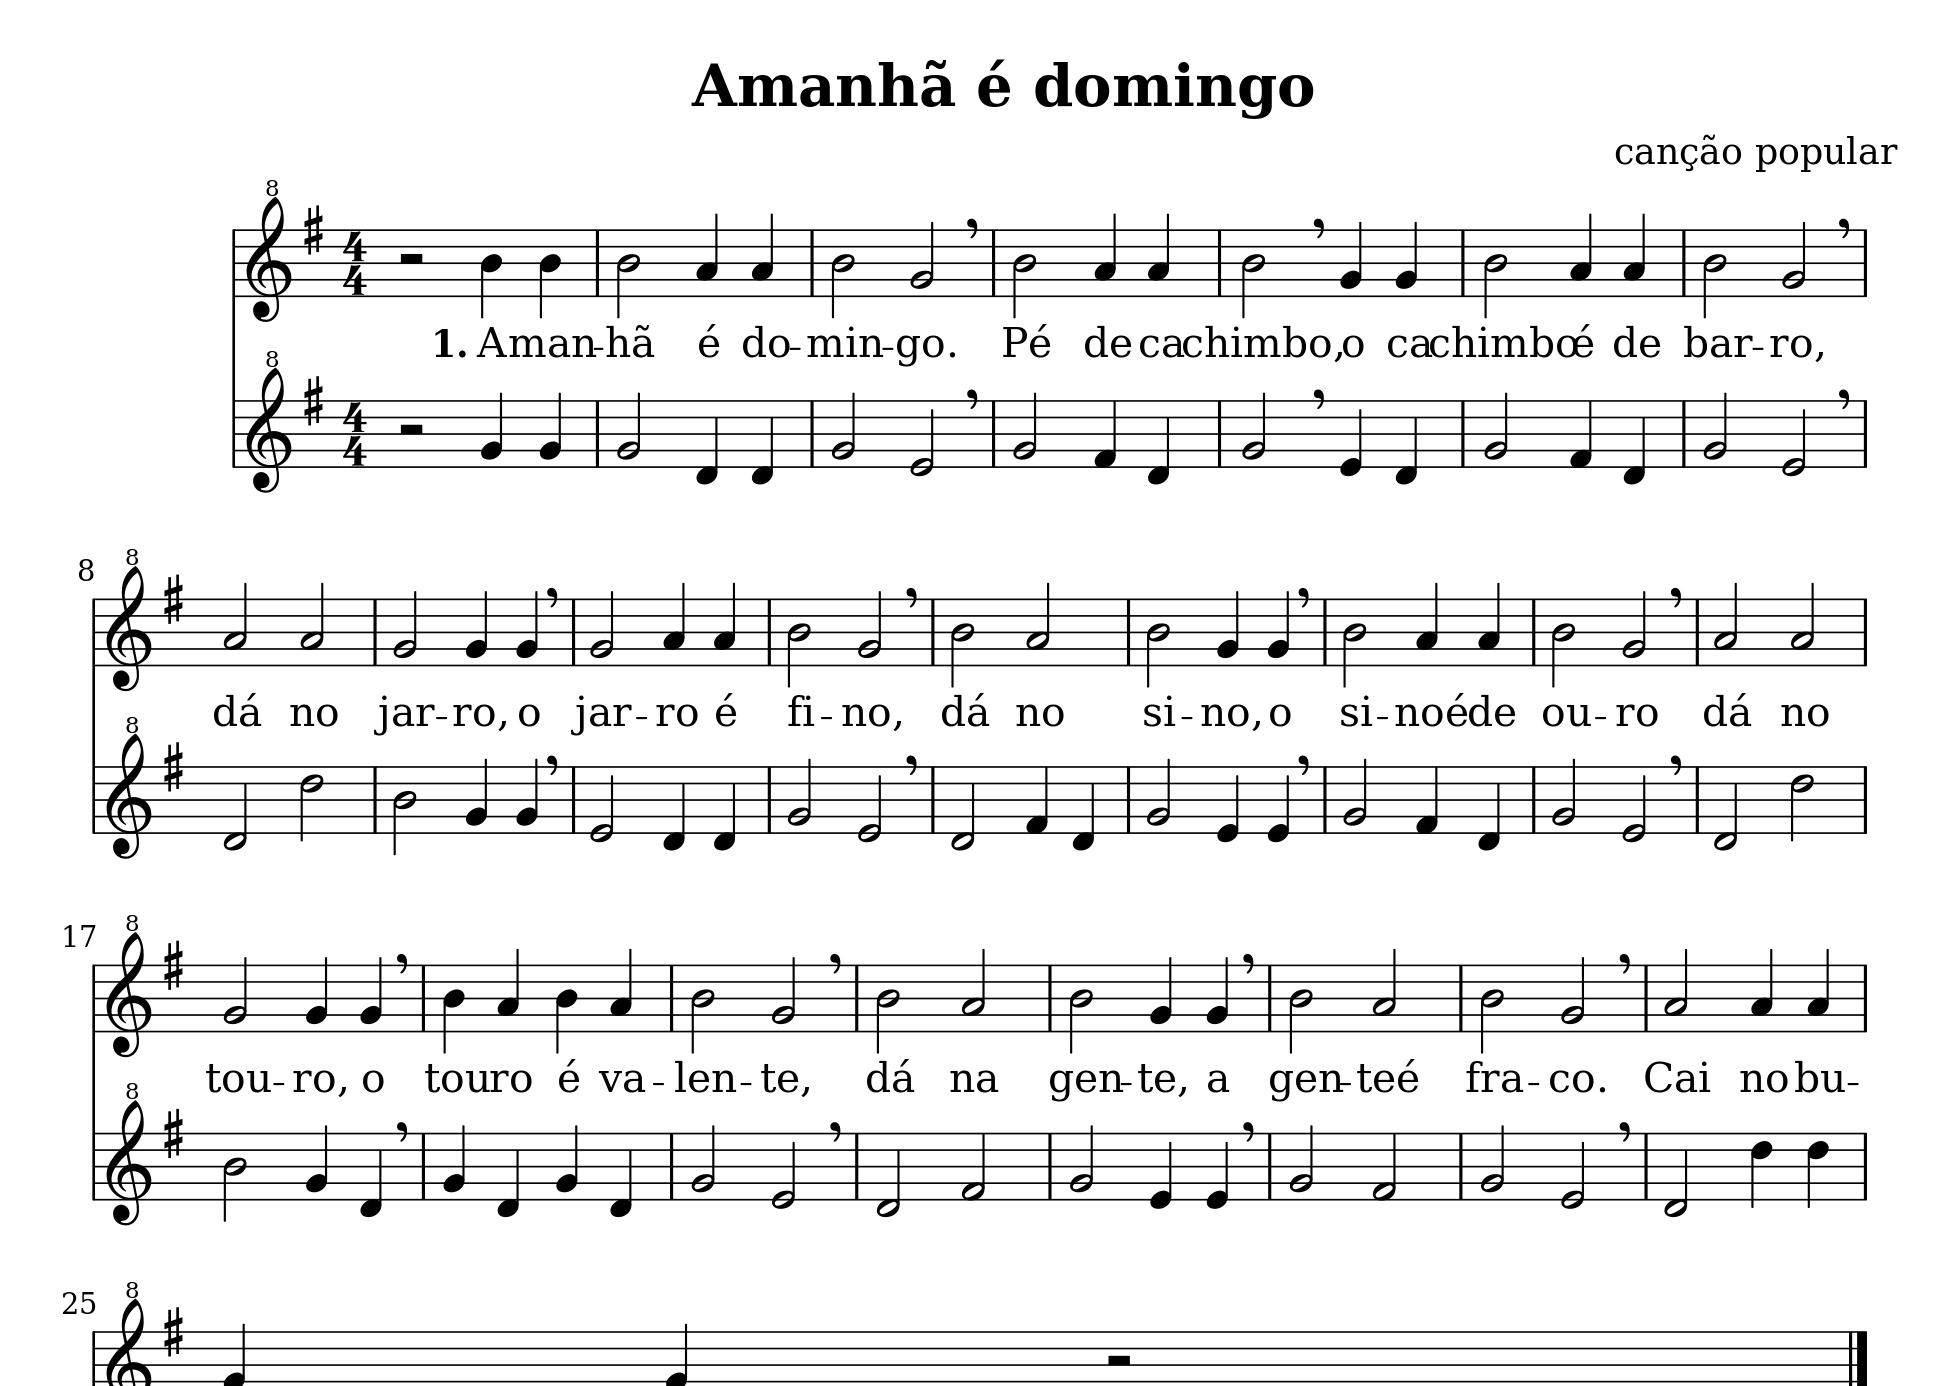1: (61, 922, 76, 949)
2: (60, 1288, 79, 1315)
2_-1: (874, 1129, 903, 1216), (949, 762, 976, 850), (1713, 763, 1740, 852), (222, 763, 249, 850), (1663, 1129, 1689, 1218)
2_0: (769, 1129, 798, 1210), (1558, 1129, 1587, 1210), (907, 397, 936, 477), (1780, 397, 1809, 477), (588, 763, 616, 843), (1620, 763, 1648, 843), (856, 763, 883, 844)
2_1: (960, 1129, 988, 1201), (1371, 1129, 1398, 1201)
2_2: (1287, 1122, 1317, 1200), (1024, 583, 1053, 664), (688, 1123, 718, 1200), (1240, 390, 1269, 468), (1482, 390, 1510, 468), (786, 756, 814, 834), (1341, 756, 1369, 834), (1068, 1122, 1096, 1200), (960, 949, 987, 1030), (1371, 949, 1398, 1030), (615, 390, 643, 466), (1011, 391, 1039, 468), (222, 954, 250, 1030), (769, 955, 798, 1032), (829, 390, 856, 468), (391, 588, 418, 666), (1146, 756, 1173, 834), (1551, 756, 1578, 834), (909, 220, 936, 297), (1702, 391, 1729, 468), (589, 589, 616, 666), (856, 589, 883, 666), (1621, 589, 1648, 666), (1560, 955, 1587, 1032), (1479, 1123, 1506, 1200), (1782, 220, 1807, 297)
2_3: (1789, 583, 1818, 666), (1662, 949, 1690, 1032), (222, 580, 249, 667), (298, 580, 325, 664), (1713, 585, 1740, 666)
2_4: (784, 595, 811, 688), (1341, 595, 1368, 688), (1287, 961, 1314, 1054), (874, 963, 901, 1054), (1068, 963, 1095, 1054), (220, 1131, 247, 1222), (1011, 226, 1038, 316), (1479, 963, 1506, 1053), (949, 597, 975, 688), (391, 765, 417, 855), (690, 963, 715, 1053), (829, 228, 855, 316), (1240, 228, 1266, 316), (1483, 226, 1509, 315), (1702, 226, 1728, 315), (1146, 597, 1170, 688), (1551, 597, 1575, 688), (616, 228, 640, 316)
2_6: (1789, 763, 1815, 840), (298, 765, 322, 841)
4: (340, 432, 369, 466), (340, 226, 367, 262), (340, 261, 367, 295), (342, 397, 367, 433)
4_-1: (493, 1129, 522, 1219), (606, 1129, 634, 1219), (1069, 763, 1098, 852), (357, 1129, 384, 1219), (693, 397, 720, 486), (661, 763, 688, 852), (711, 763, 738, 852), (1476, 763, 1503, 852), (748, 397, 775, 484), (1146, 397, 1171, 486), (1393, 397, 1419, 486), (1621, 397, 1647, 484)
4_0: (1147, 1129, 1176, 1210), (1215, 763, 1242, 844), (1266, 763, 1293, 844), (1204, 1129, 1231, 1210), (1339, 397, 1365, 478)
4_1: (1092, 397, 1119, 469), (1567, 397, 1594, 469), (1023, 763, 1050, 835), (1413, 763, 1440, 835)
4_2: (463, 588, 490, 667), (553, 1122, 580, 1201), (478, 390, 505, 468), (463, 756, 490, 834), (1339, 219, 1365, 298), (538, 390, 564, 469), (514, 756, 540, 835), (1149, 954, 1174, 1033), (304, 1122, 330, 1201), (441, 1122, 466, 1201), (514, 589, 540, 667), (1216, 589, 1242, 667), (304, 955, 330, 1033), (358, 955, 384, 1033), (1204, 955, 1230, 1033), (1266, 591, 1291, 667), (1395, 219, 1419, 298), (222, 1320, 247, 1386)
4_3: (607, 946, 633, 1032), (1749, 946, 1774, 1032), (1806, 946, 1831, 1032), (1093, 213, 1119, 297), (1569, 213, 1594, 297), (661, 580, 687, 664), (1414, 580, 1440, 664), (1477, 582, 1503, 666), (694, 213, 720, 295), (750, 214, 775, 297), (1146, 214, 1171, 297), (712, 580, 736, 666), (496, 946, 520, 1030), (1623, 214, 1647, 297)
4_4: (553, 961, 579, 1054), (478, 228, 504, 319), (538, 228, 562, 318), (442, 963, 466, 1053)
4_6: (1806, 1129, 1830, 1207), (1750, 1129, 1773, 1209)
5: (79, 1287, 96, 1315)
7: (79, 921, 97, 951)
8: (76, 555, 94, 582)
Final_barline: (1845, 1329, 1869, 1383)
High_Gclef: (243, 177, 292, 324), (244, 349, 292, 496), (105, 546, 151, 693), (105, 717, 151, 861), (106, 913, 151, 1059), (106, 1083, 151, 1228)
Rests2: (1104, 1351, 1135, 1368), (396, 421, 427, 436), (396, 250, 426, 265)
Sharp: (301, 202, 325, 256), (301, 373, 325, 427), (162, 571, 184, 625), (162, 739, 184, 793), (162, 937, 184, 991), (162, 1107, 184, 1159), (162, 1305, 184, 1357)
Single_barline: (1857, 598, 1873, 664), (1857, 766, 1873, 832), (1455, 229, 1471, 294), (226, 228, 241, 295), (1858, 229, 1873, 297), (1527, 765, 1542, 832), (1638, 1132, 1653, 1200), (664, 1132, 679, 1200), (987, 229, 1002, 295), (1677, 229, 1692, 295), (226, 400, 241, 466), (987, 400, 1002, 466), (1456, 400, 1471, 466), (1677, 400, 1692, 466), (1858, 400, 1873, 466), (805, 400, 820, 466), (565, 598, 580, 664), (925, 598, 940, 664), (367, 598, 382, 664), (762, 598, 777, 664), (1527, 598, 1542, 664), (367, 766, 382, 832), (565, 766, 580, 832), (1689, 766, 1704, 832), (415, 964, 430, 1030), (1263, 964, 1278, 1030), (1858, 964, 1873, 1030), (1455, 964, 1470, 1030), (1455, 1132, 1470, 1198), (1858, 1132, 1873, 1198), (415, 1132, 430, 1198), (1263, 1132, 1278, 1198), (589, 229, 604, 294), (805, 229, 820, 294), (1212, 229, 1227, 294), (589, 400, 604, 465), (664, 964, 679, 1029), (87, 598, 100, 666), (1213, 400, 1227, 466), (1690, 598, 1704, 664), (763, 766, 777, 832), (1318, 766, 1332, 832), (87, 766, 100, 832), (87, 964, 100, 1030), (850, 964, 864, 1030), (1044, 964, 1057, 1030), (1639, 964, 1653, 1030), (849, 1132, 862, 1198), (1044, 1132, 1057, 1198), (87, 1132, 100, 1198), (1320, 598, 1332, 661), (87, 1330, 100, 1384)
TimeSig: (340, 399, 369, 466), (340, 228, 367, 295)
